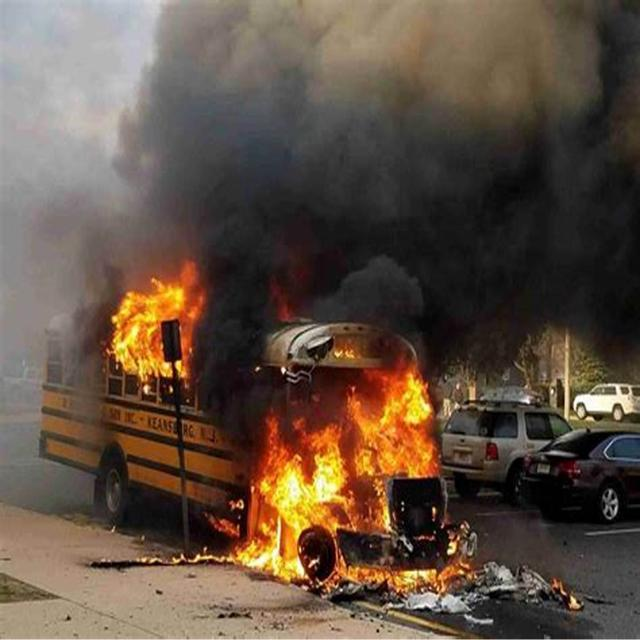Fire: (252, 453, 344, 586), (351, 386, 441, 482), (114, 286, 190, 381)
